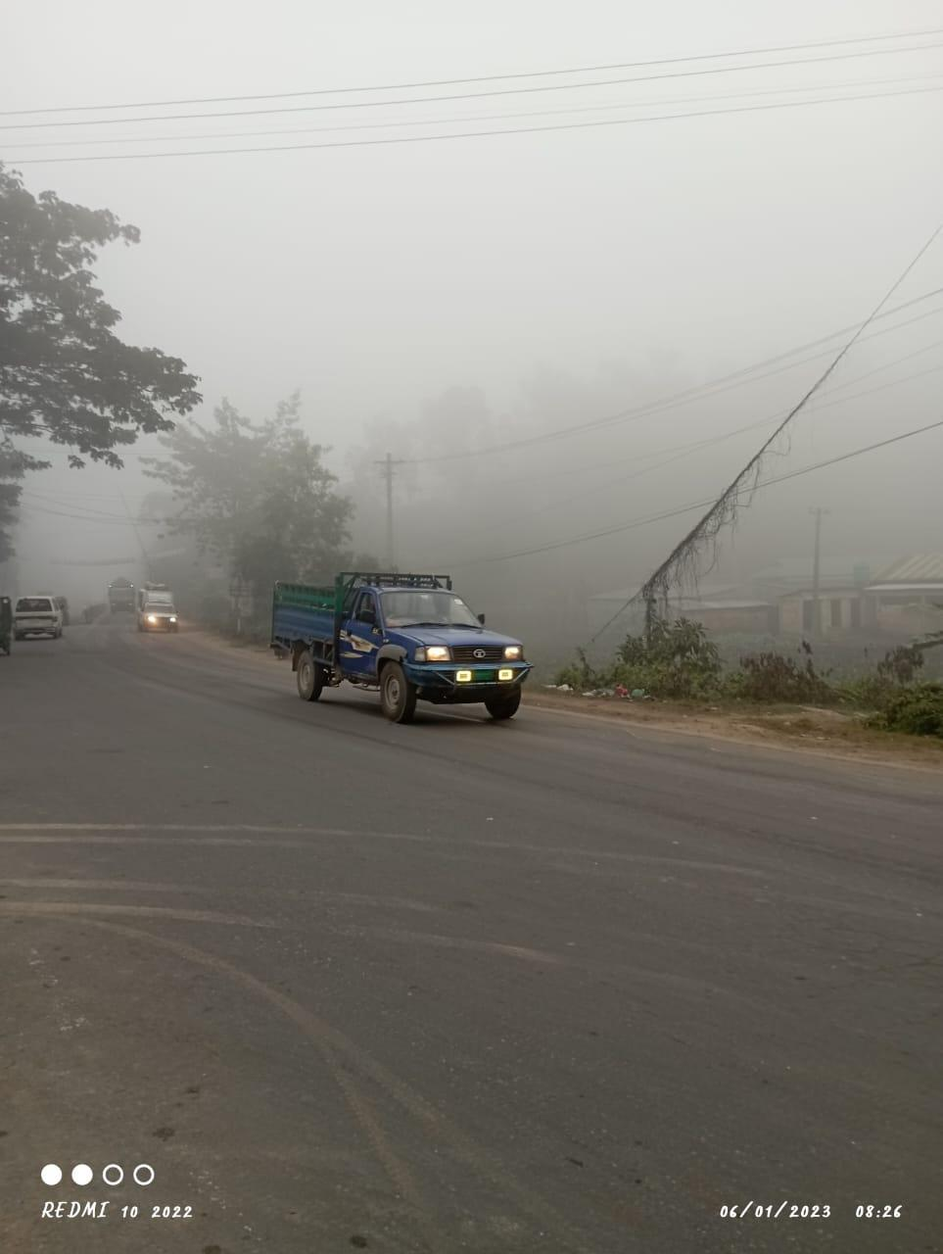Car: (130, 573, 193, 643), (9, 587, 74, 643)
Truck: (252, 557, 539, 730)
